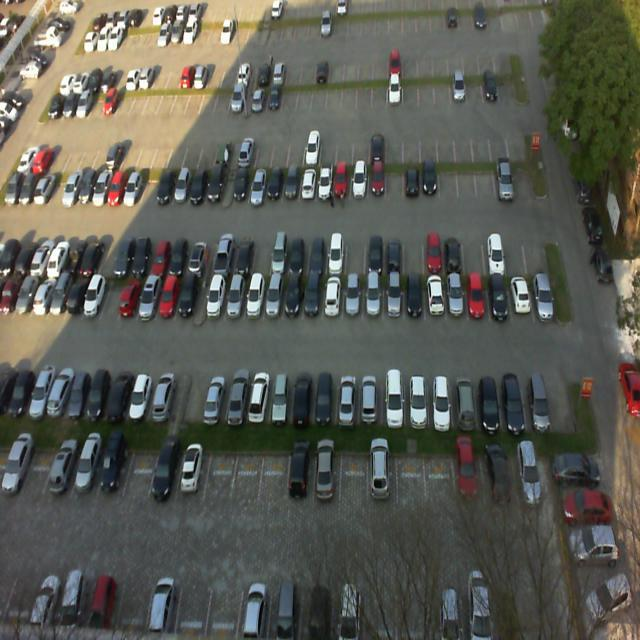space-empty: (123, 442, 157, 502), (231, 451, 264, 505), (545, 370, 576, 426), (204, 448, 238, 498), (259, 448, 291, 500), (21, 446, 55, 494), (101, 270, 125, 320), (181, 373, 206, 419), (505, 227, 527, 273), (525, 229, 549, 271), (139, 165, 162, 205), (511, 156, 534, 196), (404, 226, 424, 272), (464, 228, 484, 272), (251, 235, 273, 273), (345, 231, 364, 275), (458, 162, 478, 198), (478, 158, 496, 198), (388, 162, 404, 200), (440, 162, 458, 195)
space-occupied: (94, 445, 132, 502), (43, 445, 79, 499), (71, 446, 106, 501), (148, 444, 182, 500), (175, 445, 209, 495), (312, 451, 342, 507), (223, 370, 254, 424), (499, 373, 527, 431), (64, 367, 93, 421), (476, 372, 502, 429), (523, 371, 549, 428), (222, 272, 249, 326), (117, 271, 145, 323), (83, 371, 112, 421), (288, 449, 314, 504), (136, 267, 162, 321), (428, 375, 454, 429), (452, 374, 479, 426), (106, 371, 134, 421), (268, 373, 294, 425), (312, 372, 336, 428), (154, 274, 180, 324), (127, 370, 153, 420), (203, 370, 229, 420), (246, 372, 272, 422), (262, 270, 286, 324), (530, 270, 557, 318), (148, 374, 175, 422), (359, 371, 382, 426), (174, 272, 198, 324), (405, 374, 429, 426), (241, 275, 265, 325), (335, 373, 359, 423), (290, 372, 313, 424), (382, 371, 405, 423), (486, 273, 511, 320), (483, 227, 507, 275), (443, 226, 466, 273), (205, 273, 225, 327), (130, 236, 156, 276), (113, 238, 140, 276), (303, 276, 324, 324), (167, 238, 193, 276), (467, 275, 488, 322), (148, 237, 172, 278), (509, 276, 531, 320), (188, 164, 211, 206), (322, 277, 343, 323), (444, 277, 467, 319), (282, 276, 302, 324), (425, 229, 445, 276), (188, 239, 212, 278), (155, 165, 177, 207), (172, 165, 194, 207), (363, 276, 383, 322), (404, 274, 424, 320), (426, 276, 446, 322), (382, 231, 404, 272), (204, 166, 226, 206), (287, 234, 309, 274), (231, 164, 252, 205), (229, 238, 251, 277), (384, 276, 402, 322), (213, 239, 235, 275), (268, 236, 290, 272), (345, 275, 362, 321), (307, 234, 327, 273), (324, 235, 344, 273), (364, 235, 383, 273), (299, 166, 317, 205), (283, 164, 300, 205), (250, 166, 268, 204), (368, 162, 386, 200), (494, 160, 514, 194), (267, 166, 283, 207), (333, 165, 350, 201), (403, 163, 421, 197), (422, 163, 440, 197), (316, 166, 332, 200), (351, 164, 367, 198)
